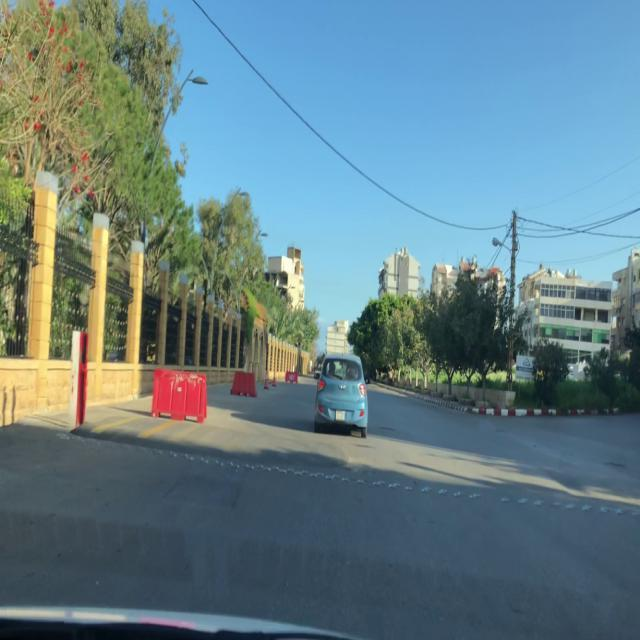pothole: (602, 462, 626, 470), (378, 426, 398, 433), (494, 429, 506, 434)
